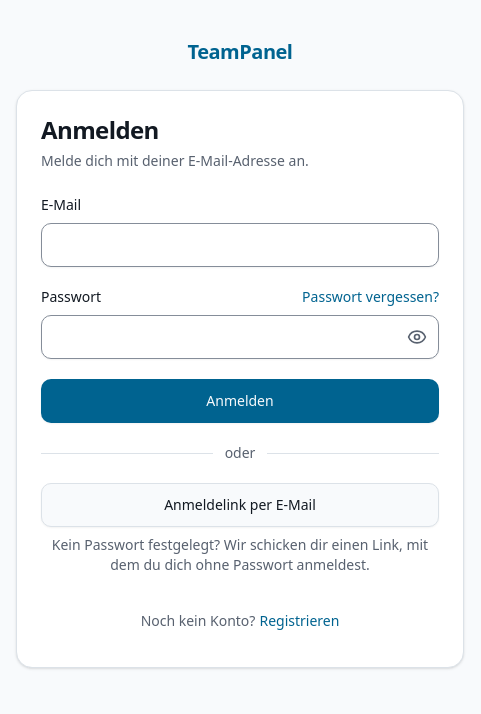
it: LoginPage › validates before sending anything and focuses the first invalid field
The image size is (481, 714).
Expected: the heading "Anmelden" is shown, [41,113,159,146]
Click the button "Anmelden" at [240, 401], box [41,379,439,423]
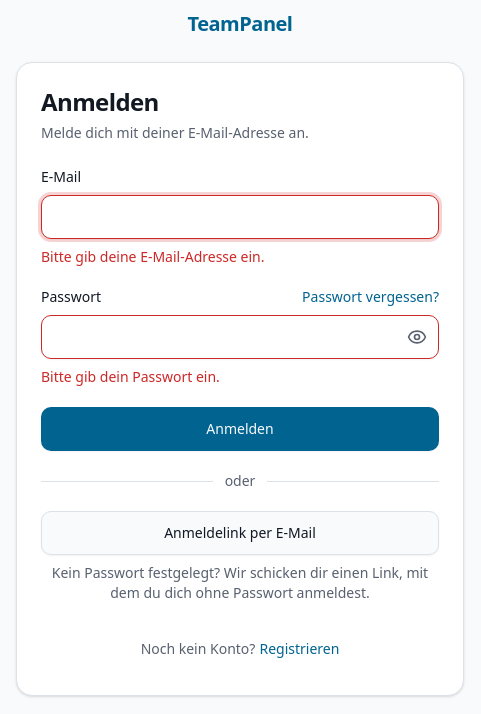
Now the text "Bitte gib deine E-Mail-Adresse ein." is shown, box [41,247,264,266]
Now the text "Bitte gib dein Passwort ein." is shown, box [41,367,220,386]
